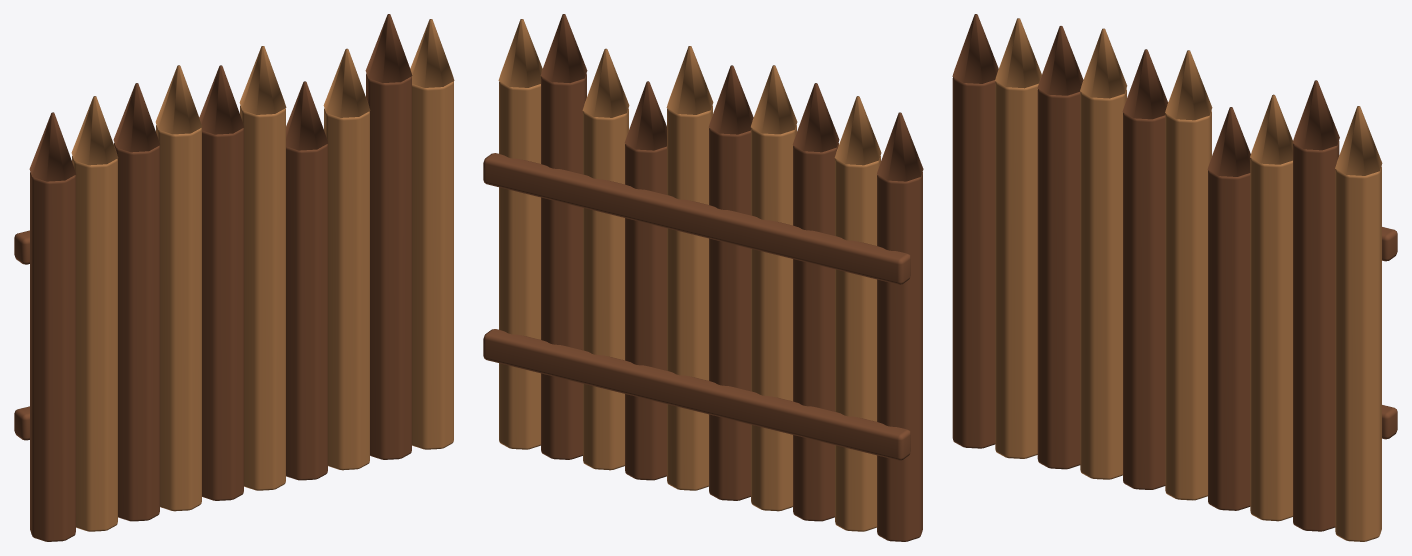
The model's file is faire_palisade.glb.
3 renders of one model, left to right at view 1: azimuth 30°, elevation 25°; view 2: azimuth 150°, elevation 25°; view 3: azimuth 330°, elevation 25°, orthographic.
Visible parts, largest first — view 1: Palisade; view 2: Palisade; view 3: Palisade.
Part boxes in pixels (x1,y1,x2,y2): Palisade: [14, 14, 454, 541]; Palisade: [483, 14, 923, 541]; Palisade: [952, 14, 1397, 541].
Size of the model in its own units: 3 by 2.98 by 0.39.
